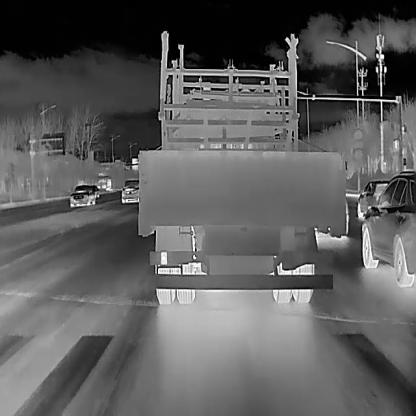car: (360, 168, 415, 286), (357, 178, 391, 219), (67, 183, 95, 206), (120, 176, 141, 205)
truck: (136, 79, 346, 306)
